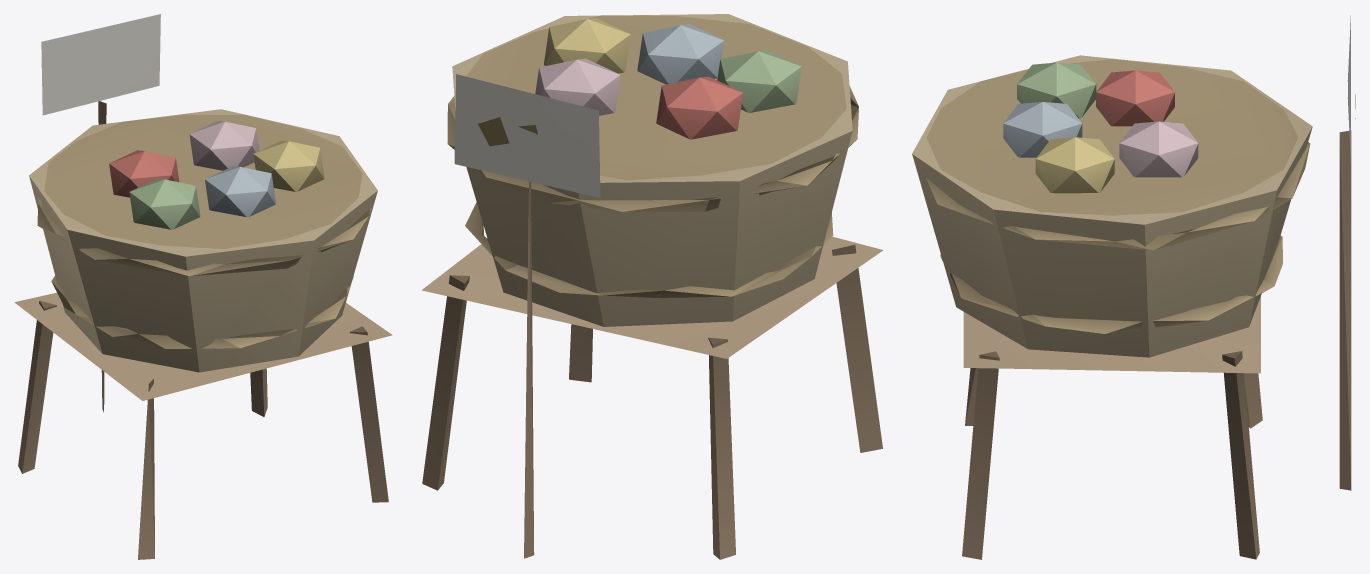
The model's file is mall_sell_basket_low.glb.
3 views of the same model, side by side, from view 1: azimuth 30°, elevation 25°; view 2: azimuth 150°, elevation 25°; view 3: azimuth 270°, elevation 25° (orthographic). The views are drawn at different scales.
Parts seen in each view (by area): view 1: mall.sell_basket; view 2: mall.sell_basket; view 3: mall.sell_basket.
Boxes of the visible parts, x1,y1,x2,y2 form: mall.sell_basket: (14, 14, 392, 559); mall.sell_basket: (421, 14, 883, 559); mall.sell_basket: (912, 15, 1355, 559).
Size of the model in its own units: 0.8628 by 1.05 by 0.9557.
